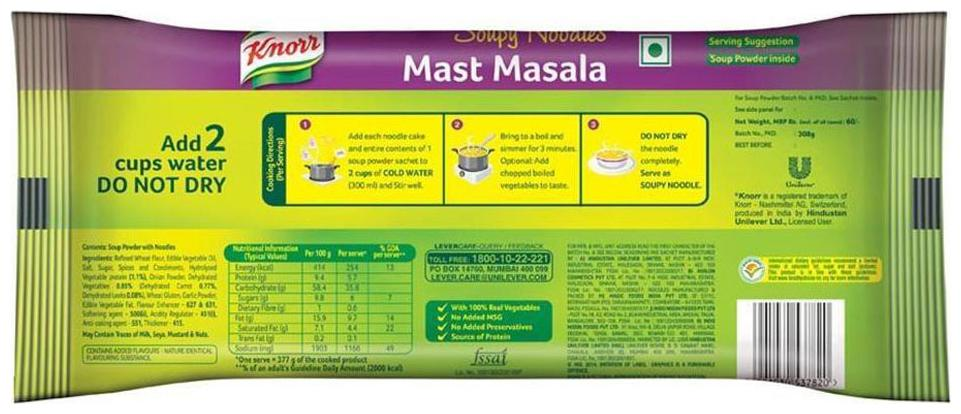fssai: (468, 346, 510, 367)
